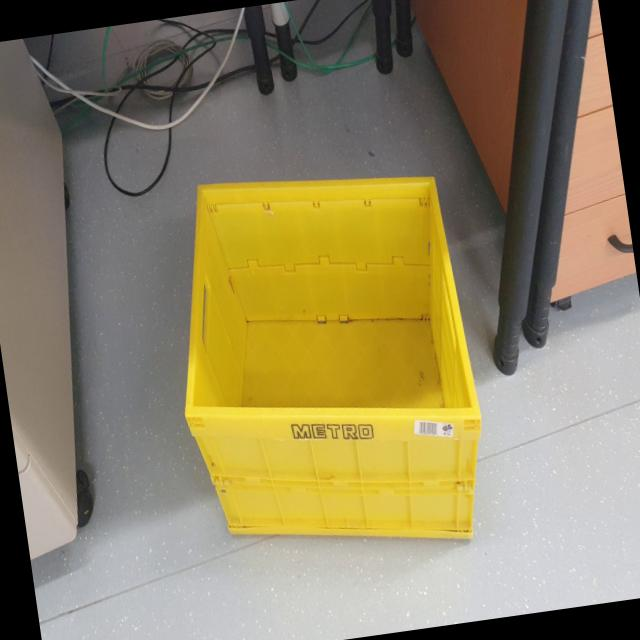box: (137, 131, 510, 591)
